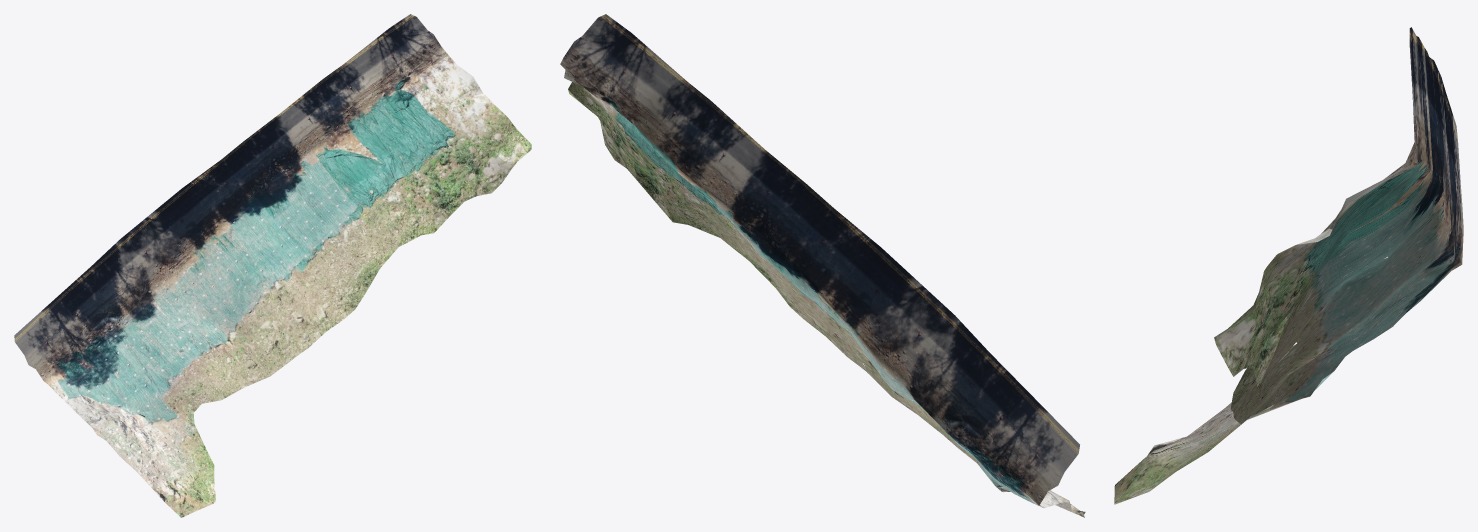
3 renders of one model, left to right at view 1: azimuth 30°, elevation 25°; view 2: azimuth 150°, elevation 25°; view 3: azimuth 270°, elevation 25°, orthographic. The views are drawn at different scales.
Parts seen in each view (by area): view 1: Bloco 1; view 2: Bloco 1; view 3: Bloco 1.
Boxes of the visible parts, bbox=[...] form: Bloco 1: bbox=[14, 14, 531, 517]; Bloco 1: bbox=[560, 14, 1085, 517]; Bloco 1: bbox=[1114, 27, 1463, 504].
Size of the model in its own units: 82.17 by 64.29 by 27.07.
Materials: 1 (1 with a texture image).
